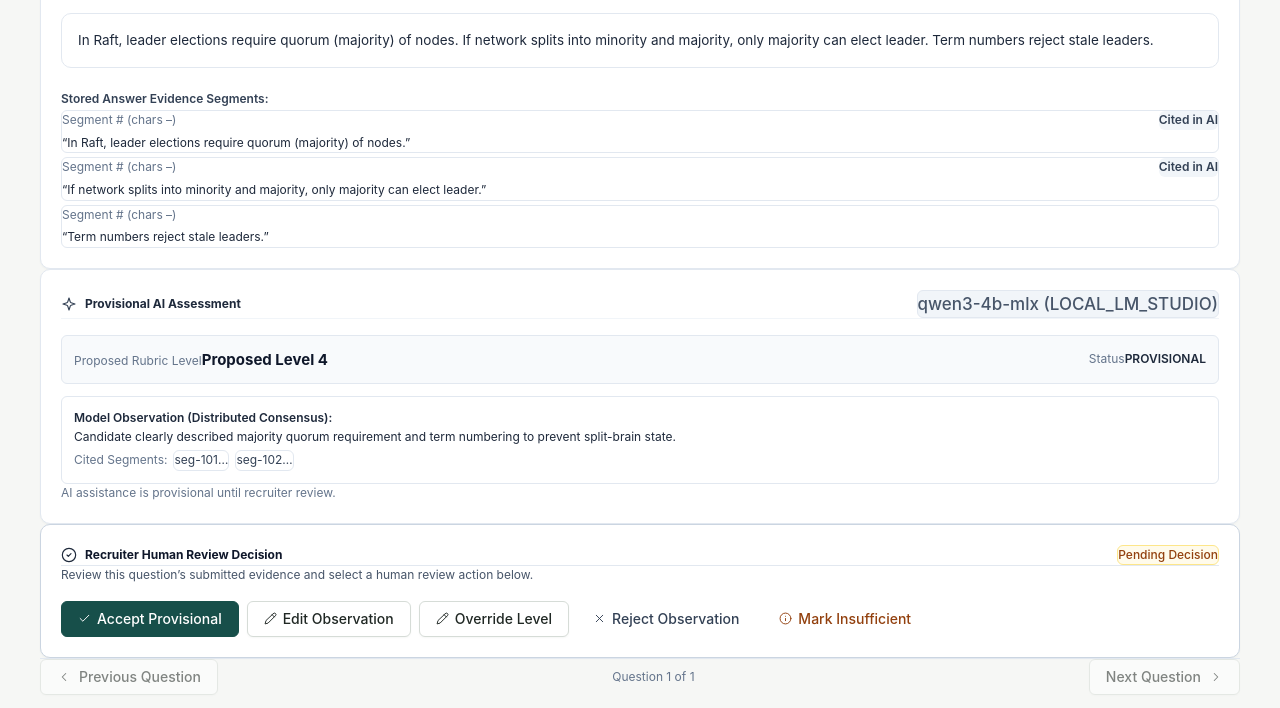
it: Phase 3D.3 Frontend: AI-Curated Interview UI & Human Review Workspace › PART C: Accept provisional assessment preserves provisional values and updates review state
The width and height of the screenshot is (1280, 708).
(page scrolled)
Click the button "Accept Provisional": (150, 619) [61,601,239,637]
(page scrolled)
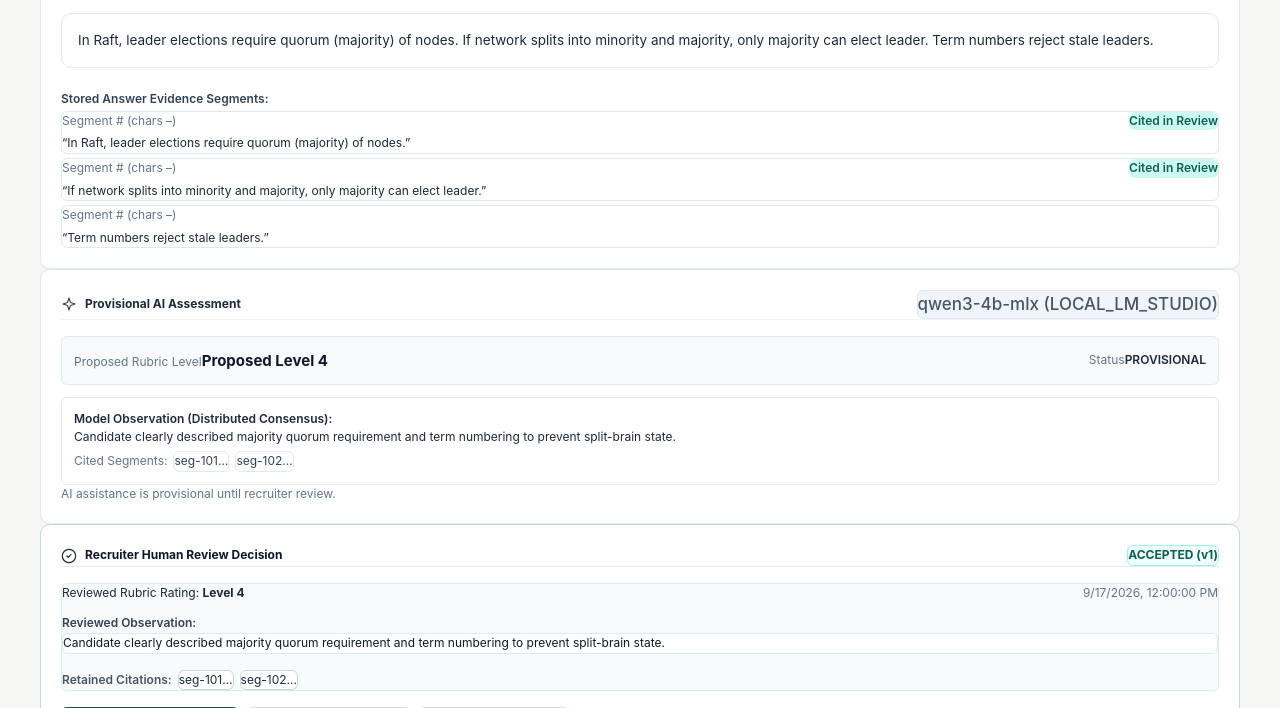
Now the text "ACCEPTED (v1)" is shown, box [1127,545,1219,566]
